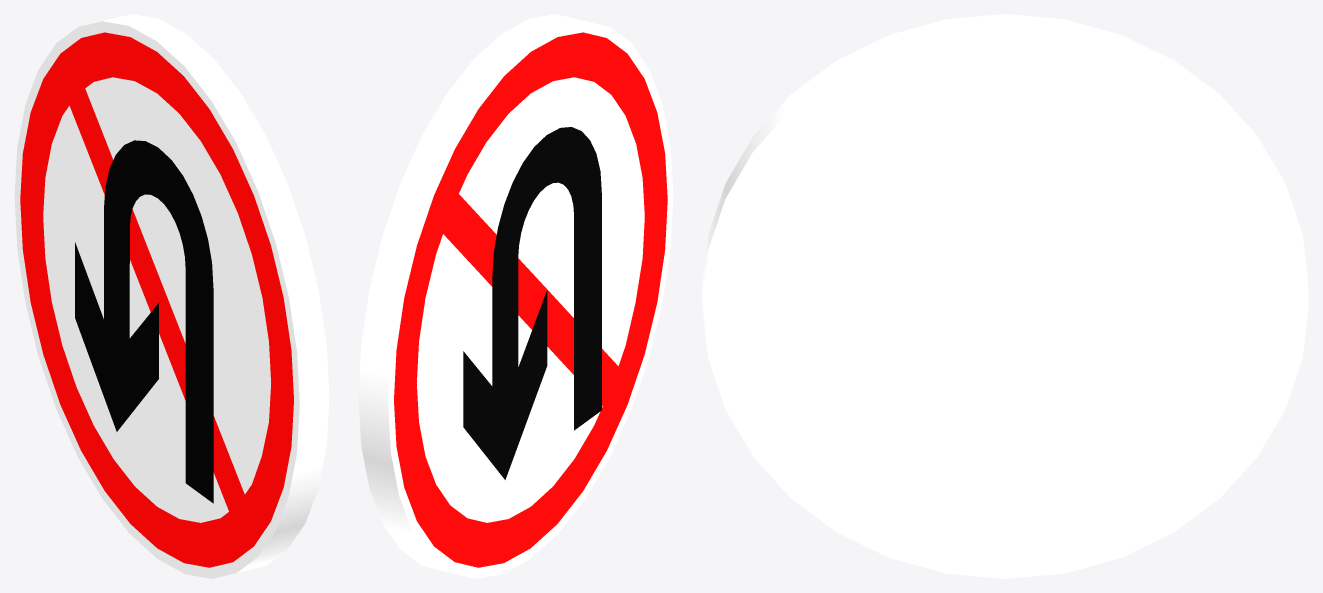
File: No_U_Turn.glb
The picture shows the model from 3 angles, left to right: view 1: azimuth 30°, elevation 25°; view 2: azimuth 150°, elevation 25°; view 3: azimuth 270°, elevation 25°; orthographic projection. The views are drawn at different scales.
Visible parts, largest first — view 1: No_U_Turn; view 2: No_U_Turn; view 3: No_U_Turn.
Part boxes in pixels (x1,y1,x2,y2): No_U_Turn: [14, 14, 329, 578]; No_U_Turn: [358, 14, 673, 578]; No_U_Turn: [702, 14, 1308, 578].
Size of the model in its own units: 0.075 by 1 by 1.
